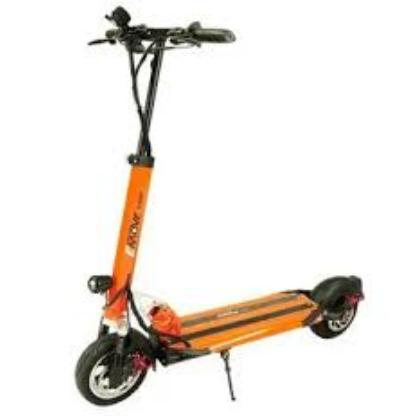bike: (70, 3, 367, 409), (74, 151, 364, 408), (74, 272, 365, 407)
